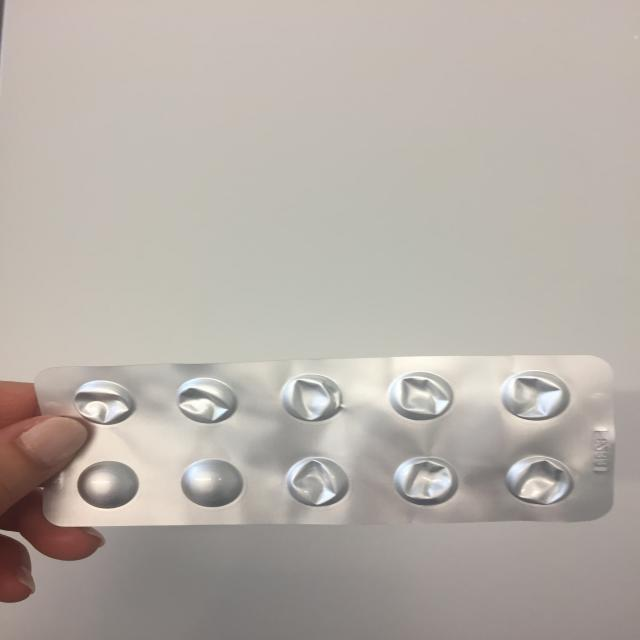Empty: (495, 368, 574, 424), (280, 452, 353, 510), (385, 455, 463, 509), (386, 369, 461, 424), (278, 370, 350, 425), (503, 454, 576, 508), (171, 375, 243, 428), (68, 380, 141, 428)
Pill: (176, 456, 247, 509), (76, 459, 141, 510)
